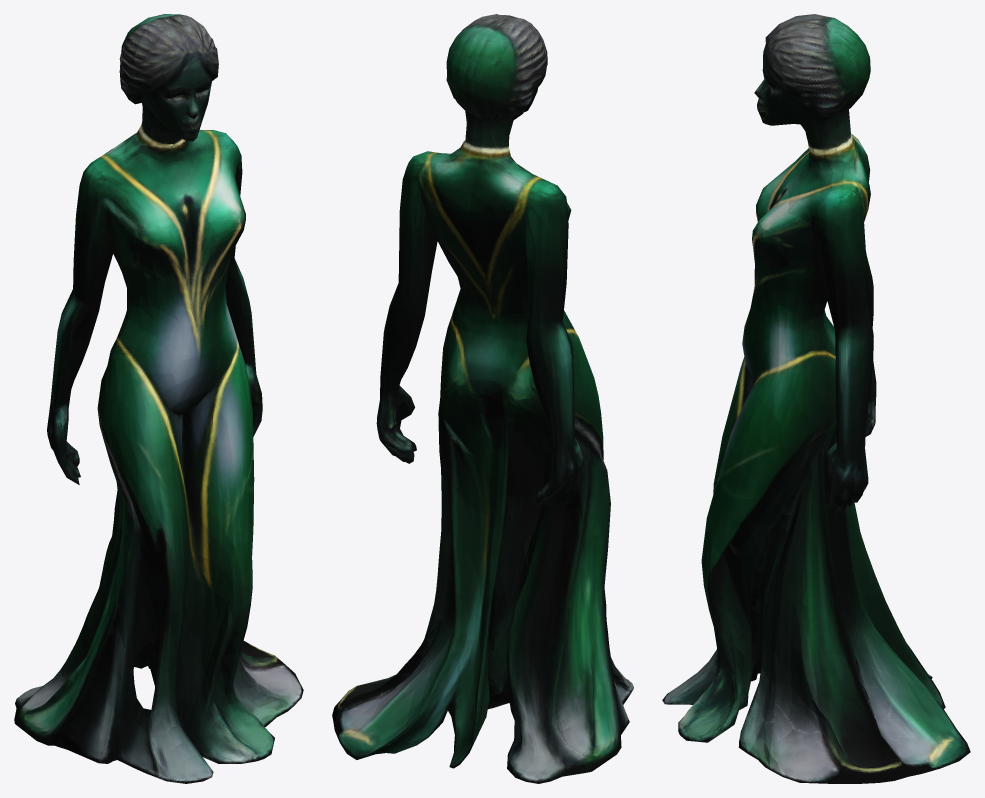
Rendered from ceramic-figurine-art-deco.jpeg.glb.
3 views of the same model, side by side, from view 1: azimuth 30°, elevation 25°; view 2: azimuth 150°, elevation 25°; view 3: azimuth 270°, elevation 25° (orthographic).
Visible parts, largest first — view 1: world; view 2: world; view 3: world.
Part boxes in pixels (x1,y1,x2,y2): world: [14, 14, 303, 783]; world: [332, 14, 633, 783]; world: [662, 14, 970, 783].
Bounding box in the file's own units: 0.3905 × 0.9999 × 0.3982.
Materials: 1 (1 with a texture image).
